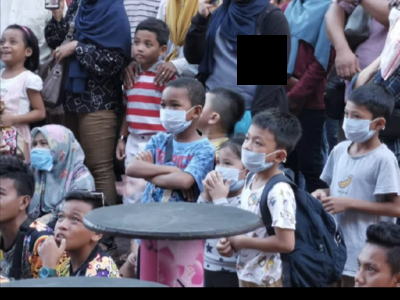mask_weared_incorrect: (240, 130, 277, 173)
with_mask: (341, 105, 376, 143), (159, 97, 193, 135), (214, 155, 246, 192), (29, 137, 55, 170)
without_mask: (51, 208, 96, 250), (354, 253, 397, 287), (133, 34, 159, 63), (1, 37, 27, 65)
